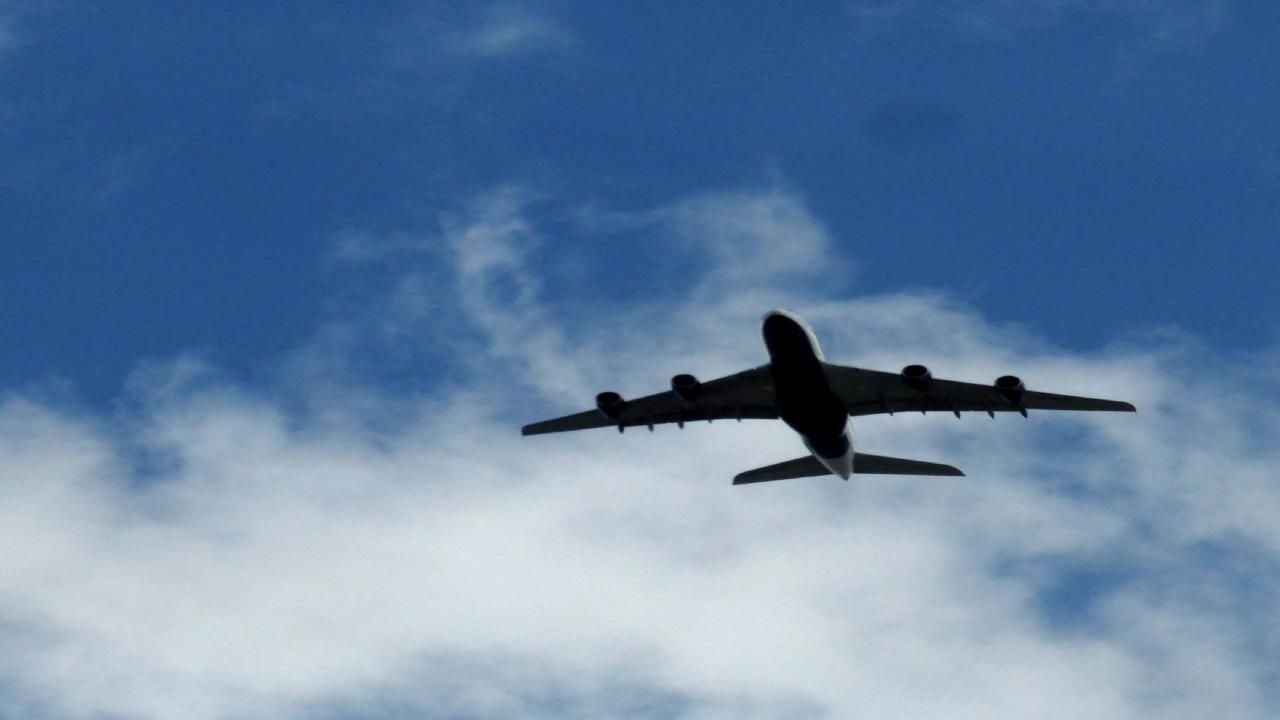Airplane: (499, 295, 1169, 502)
